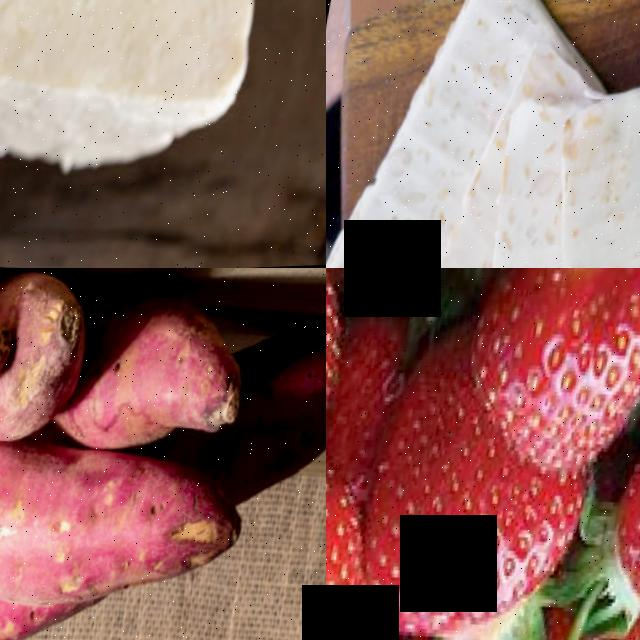strawberry: (363, 459, 589, 640), (466, 268, 640, 410), (605, 356, 640, 616)
sweet potato: (0, 421, 262, 629), (67, 283, 261, 466), (0, 269, 96, 453)
tempeh: (527, 0, 640, 268)
tofu: (0, 0, 287, 199)
